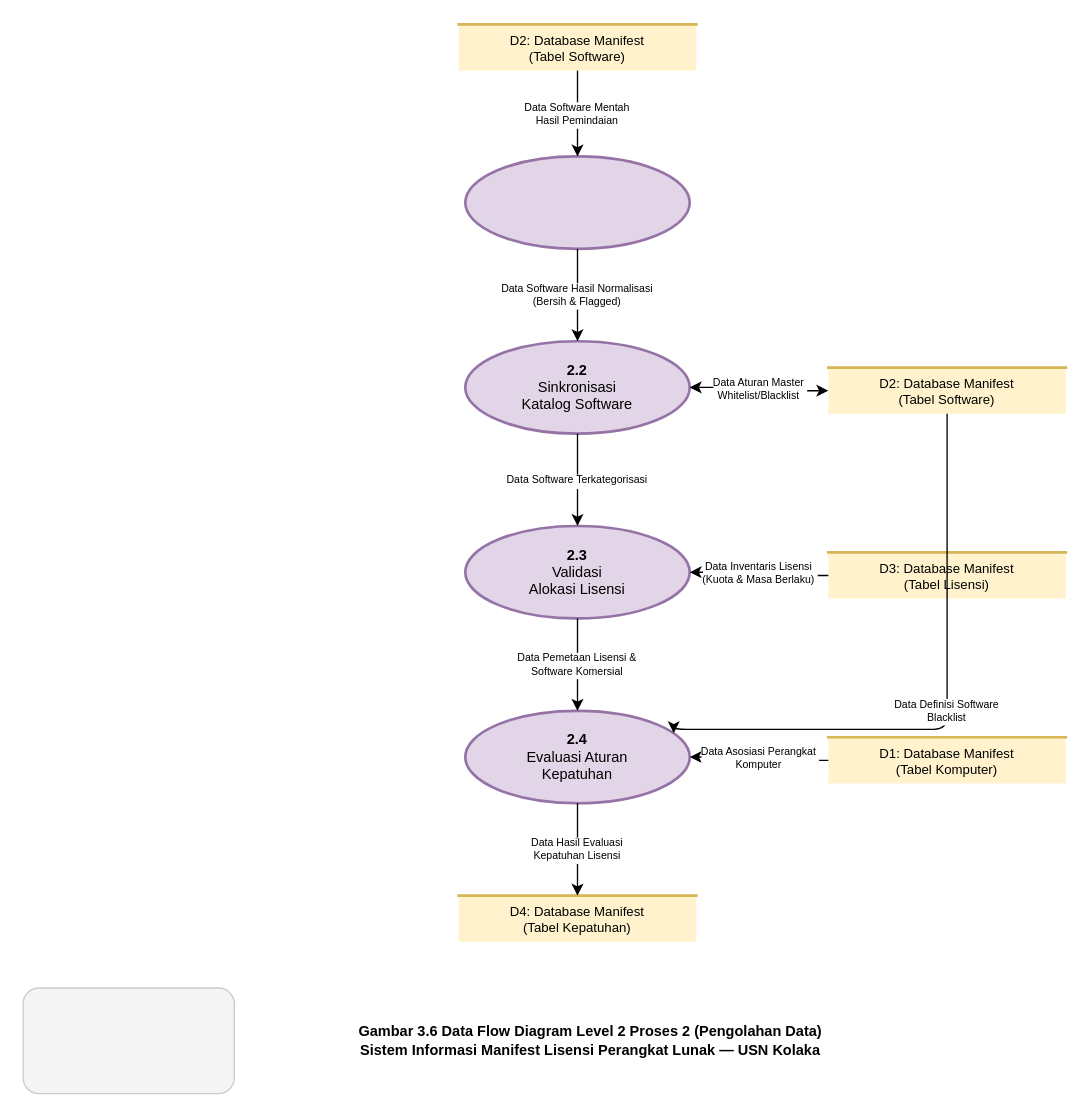
This 1090x1117 diagram has some shape labels left out. Each missing label, with the centre of its shape:
"2.1 Normalisasi & Penyaringan Software" belongs at point 576,201.
"Keterangan: ────▶ Aliran data ○ Sub-Proses ═ Data Store" belongs at point 128,1040.
